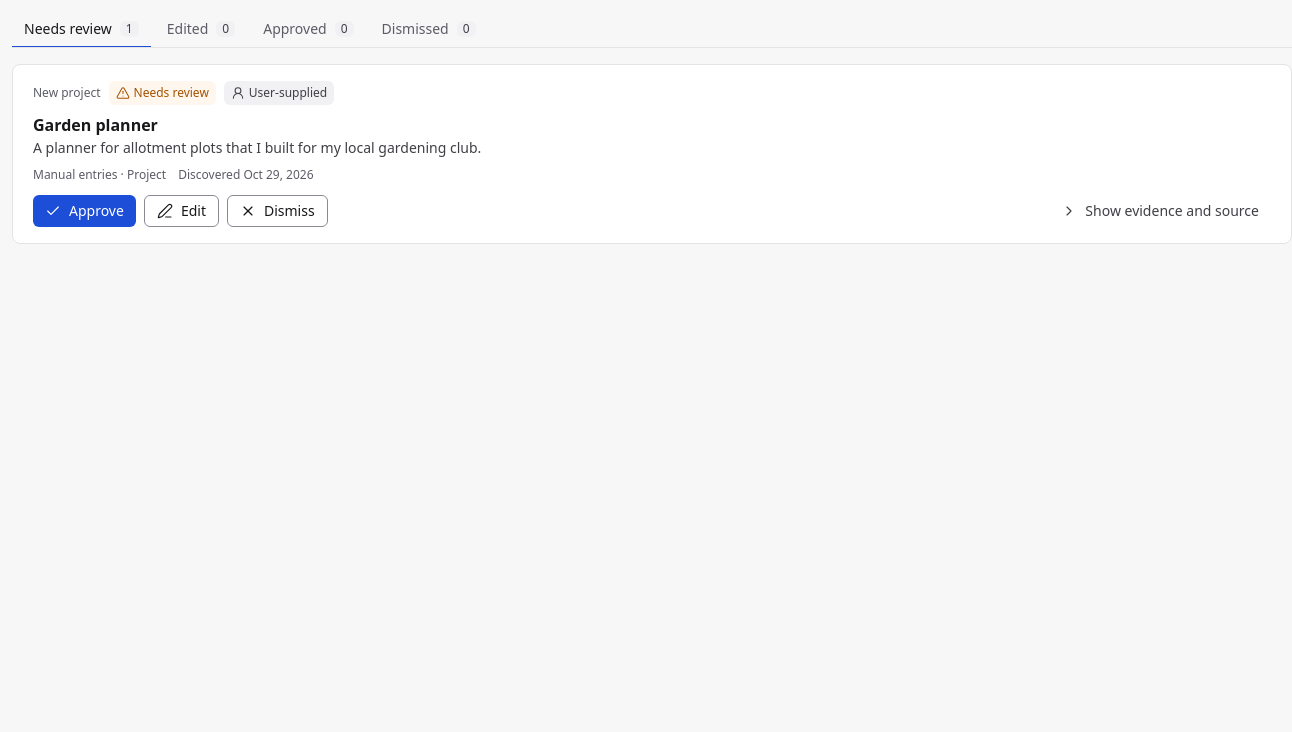
ReviewQueue (T5.1–T5.6) › approves: the item leaves Needs review, the claim is saved, and the toast says it isn't published
Click the button with aria-label "Approve “": point(84, 211) [33,195,136,227]
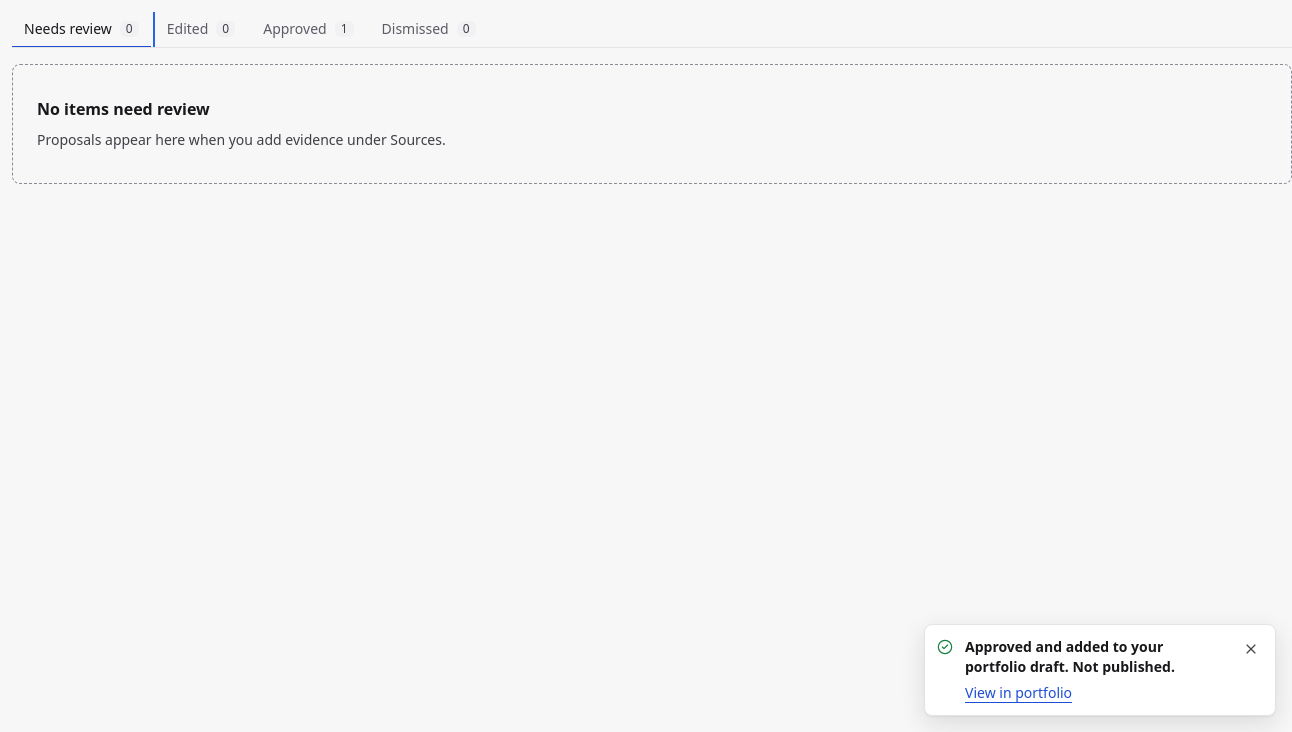
expect the tab named "Approved, 1" is shown: met, box [251,12,366,48]
expect the text "Approved and added to your portfolio draft. Not published." is shown: met, box [965,637,1175,676]
